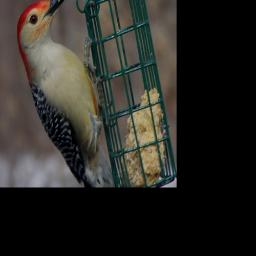Woodpecker: (17, 0, 113, 186)
